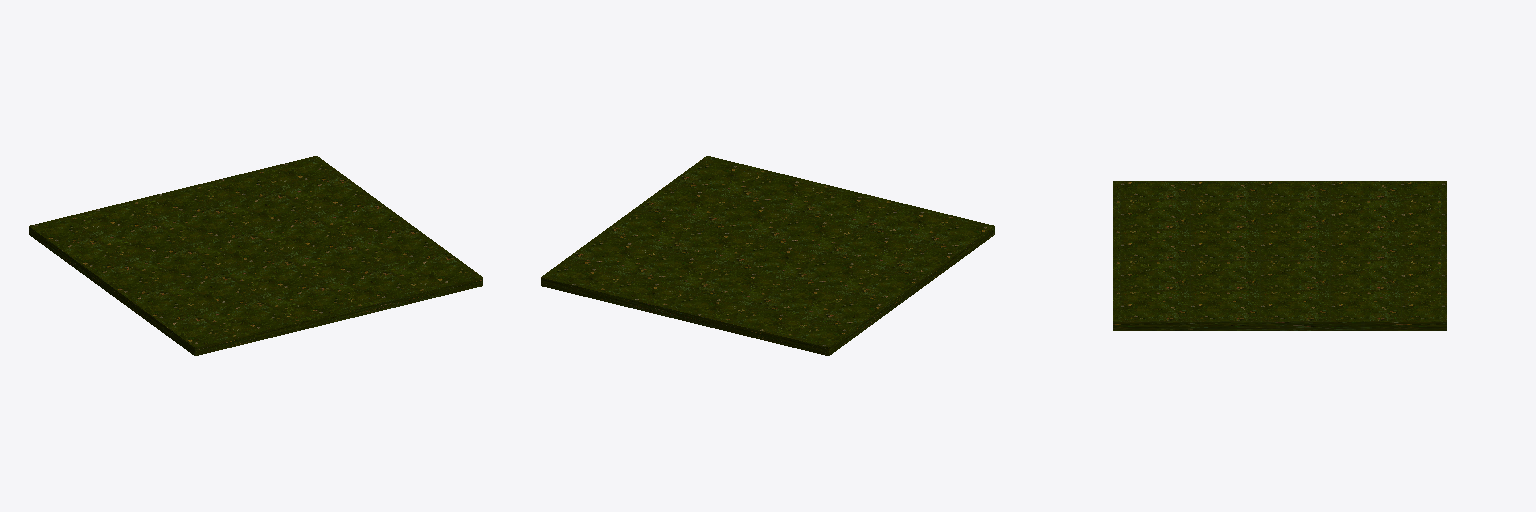
The picture shows the model from 3 angles: view 1: azimuth 30°, elevation 25°; view 2: azimuth 150°, elevation 25°; view 3: azimuth 270°, elevation 25°; orthographic projection.
Parts seen in each view (by area): view 1: base; view 2: base; view 3: base.
Part boxes in pixels (x1,y1,x2,y2): base: (29,156,482,355); base: (541,156,994,355); base: (1113,181,1446,330).
Bounding box in the file's own units: 28.76 × 0.8171 × 28.76.
Materials: 1 (1 with a texture image).